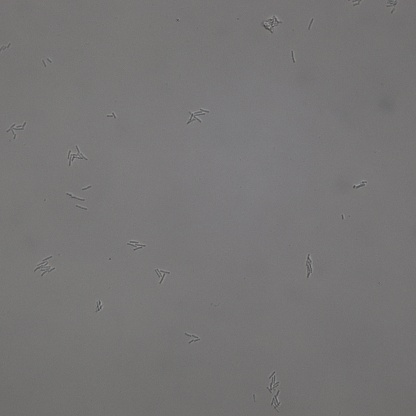R(colony): (34, 255, 55, 277), (66, 145, 88, 166), (186, 107, 210, 124), (261, 17, 281, 34), (7, 122, 26, 139), (266, 371, 281, 392), (303, 254, 314, 281), (155, 268, 170, 285), (271, 391, 282, 412), (127, 240, 145, 251), (185, 333, 201, 345), (352, 180, 366, 190), (42, 58, 53, 68), (95, 300, 103, 312), (107, 112, 117, 119)
